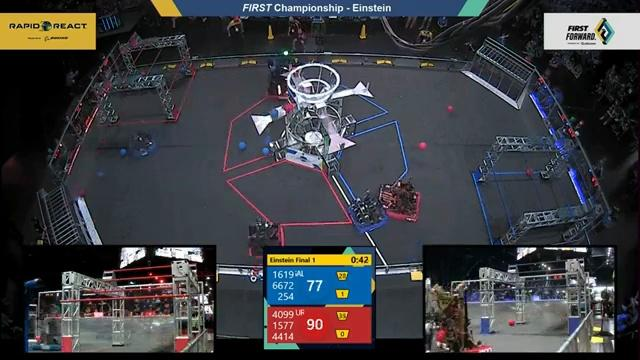robot: (425, 282, 495, 353), (254, 47, 312, 103), (377, 173, 425, 227), (110, 118, 162, 163), (245, 214, 289, 258), (343, 191, 387, 233), (29, 316, 63, 351)
